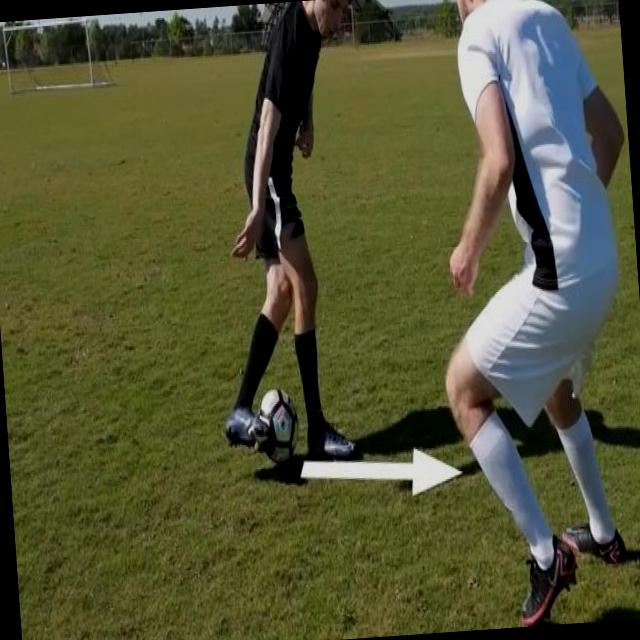Soccer Ball: (252, 388, 302, 471)
